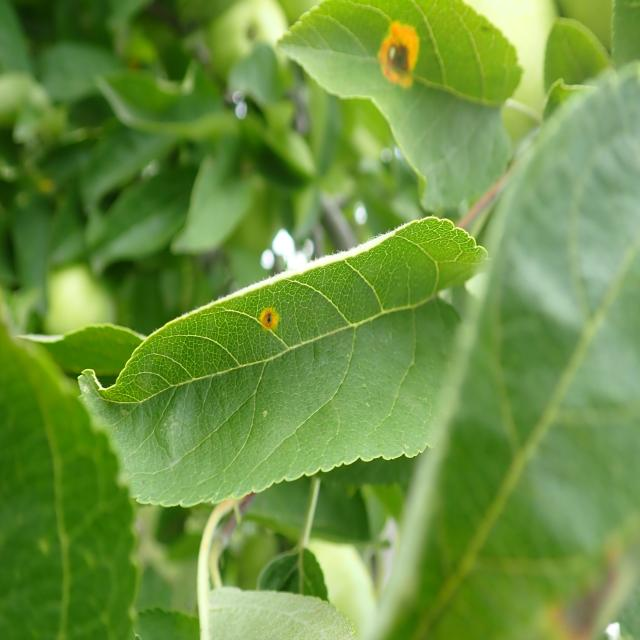Rust: (370, 12, 432, 97), (258, 299, 284, 348)
